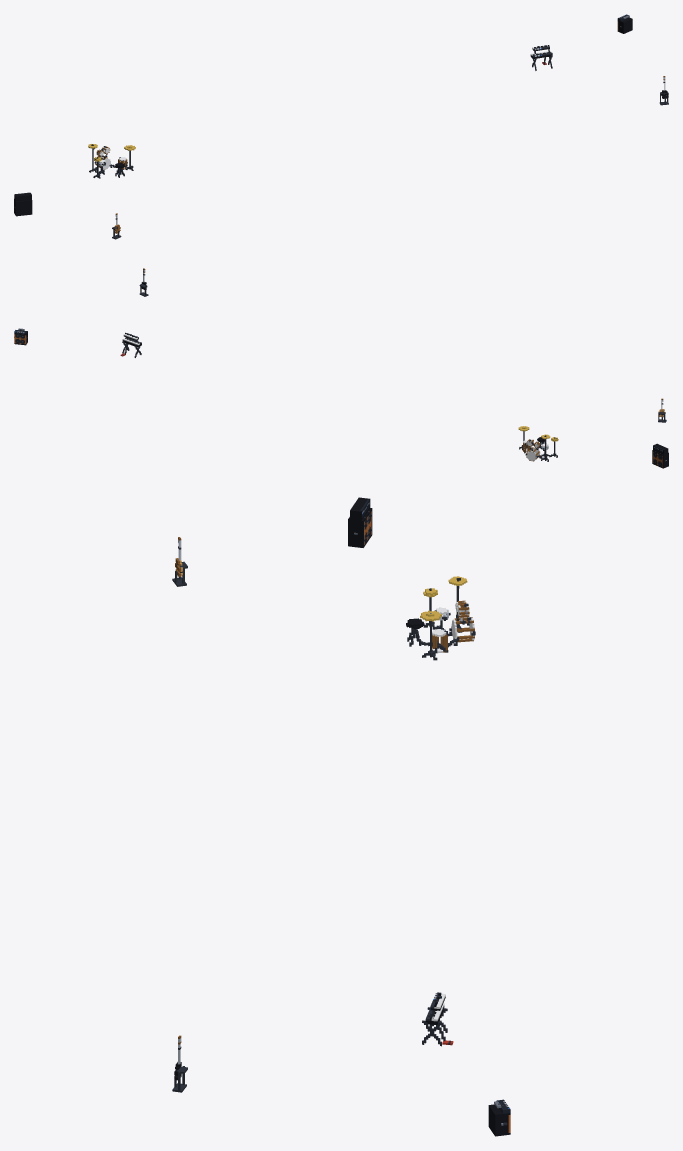
The model's file is band_all.glb.
3 views of the same model, one above another, from view 1: azimuth 30°, elevation 25°; view 2: azimuth 150°, elevation 25°; view 3: azimuth 270°, elevation 25° (orthographic). The views are drawn at different scales.
Parts seen in each view (by area): view 1: drums, amp; view 2: drums, amp; view 3: drums, amp.
Boxes of the visible parts, x1,y1,x2,y2 form: drums: [88, 144, 135, 178]; amp: [14, 192, 32, 216]; drums: [518, 426, 558, 461]; amp: [652, 443, 668, 468]; drums: [406, 576, 475, 660]; amp: [348, 497, 372, 547].
Size of the model in its own units: 35.77 by 1.45 by 8.47.
